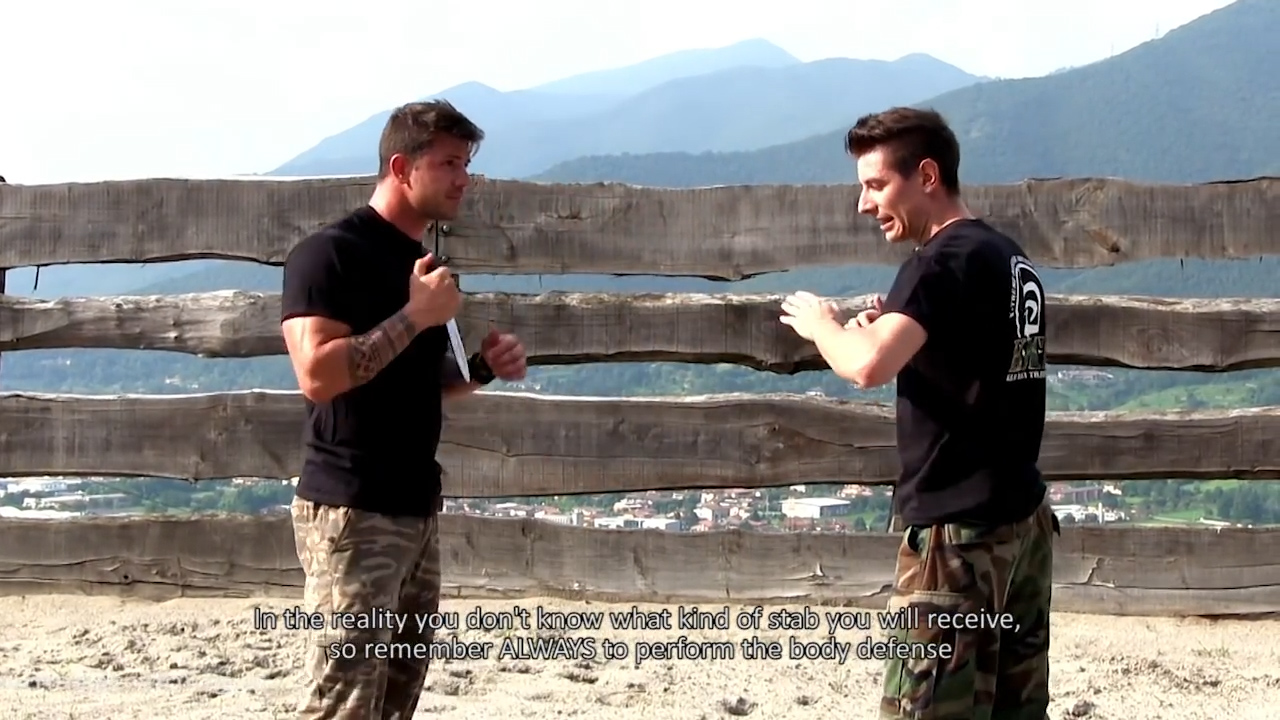knife: (411, 251, 475, 390)
